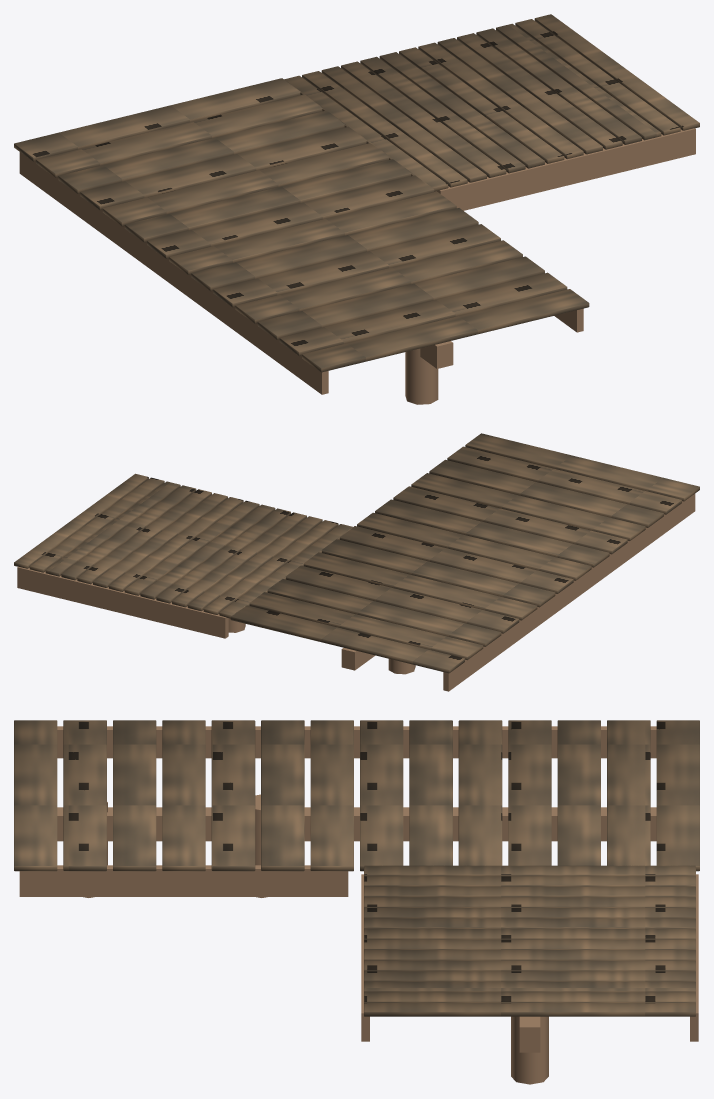
The model's file is Dock_Corner.fbx.
3 views of the same model, one above another, from view 1: azimuth 30°, elevation 25°; view 2: azimuth 150°, elevation 25°; view 3: azimuth 270°, elevation 25° (orthographic). The views are drawn at different scales.
Visible parts, largest first — view 1: LOD0; view 2: LOD0; view 3: LOD0.
Part boxes in pixels (box(x1,y1,x2,y2)): LOD0: box(14, 14, 699, 404); LOD0: box(14, 433, 699, 691); LOD0: box(14, 720, 699, 1084).
Size of what is drawn, in the model's own units: 399 by 61.8 by 397.
